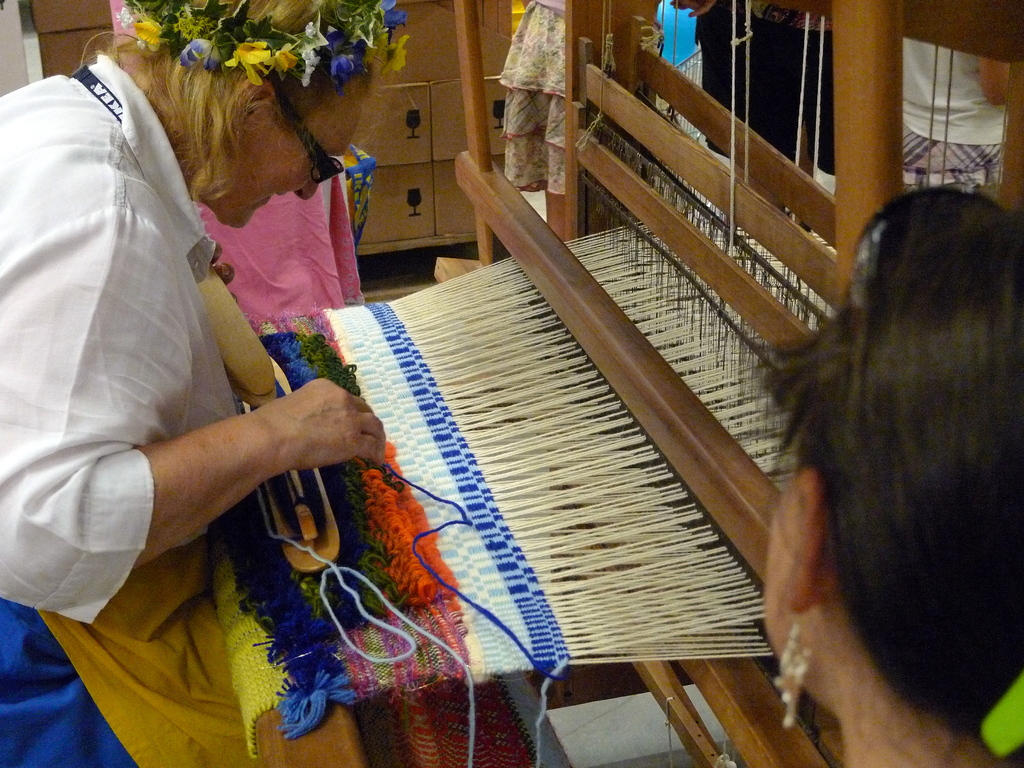Person: (0, 0, 408, 768), (755, 185, 1023, 767)
